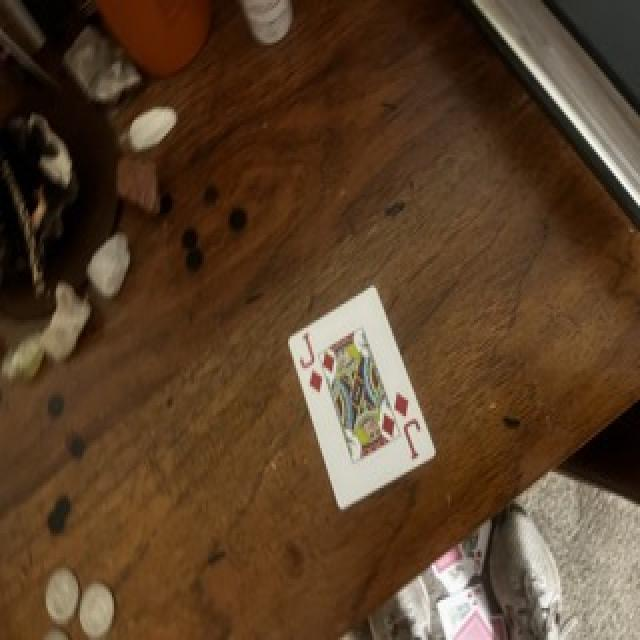Jack of diamonds: (289, 287, 435, 508)
